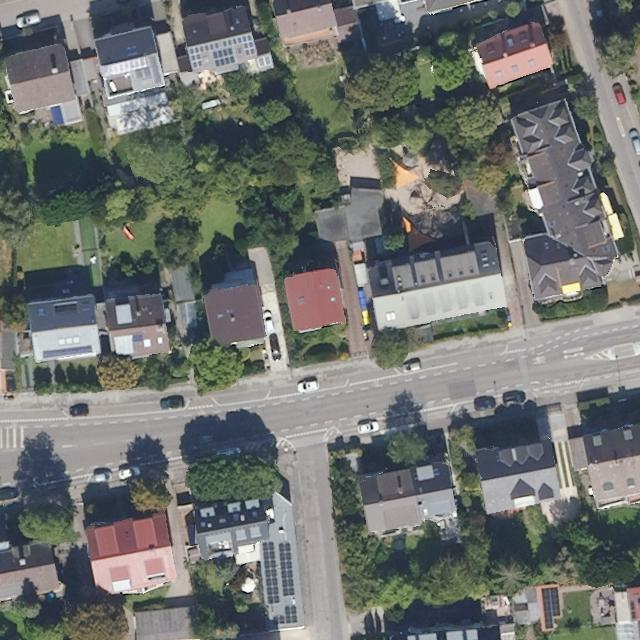PV: (261, 541, 281, 605), (539, 585, 562, 631), (278, 541, 296, 598), (221, 33, 258, 58), (42, 343, 94, 360), (188, 42, 219, 70), (107, 56, 149, 76), (272, 604, 299, 625), (212, 47, 237, 68), (148, 54, 163, 85), (257, 54, 273, 69), (135, 68, 153, 80), (133, 333, 143, 344)
